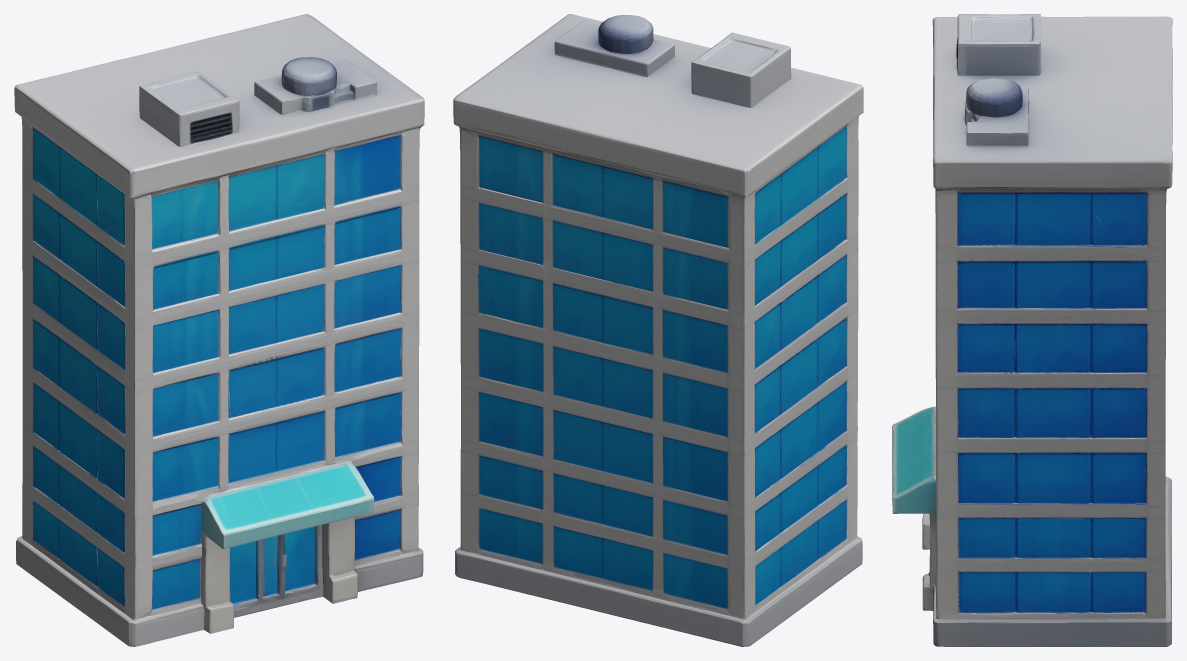
File: office_block.glb
3 views of the same model, side by side, from view 1: azimuth 30°, elevation 25°; view 2: azimuth 150°, elevation 25°; view 3: azimuth 270°, elevation 25° (orthographic).
Visible parts, largest first — view 1: geometry_0; view 2: geometry_0; view 3: geometry_0.
Part boxes in pixels (x1=…): geometry_0: x1=14, y1=14, x2=424, y2=646; geometry_0: x1=453, y1=14, x2=863, y2=646; geometry_0: x1=892, y1=14, x2=1172, y2=646.
Bounding box in the file's own units: 0.6071 × 1 × 0.4908.
Materials: 1 (1 with a texture image).
